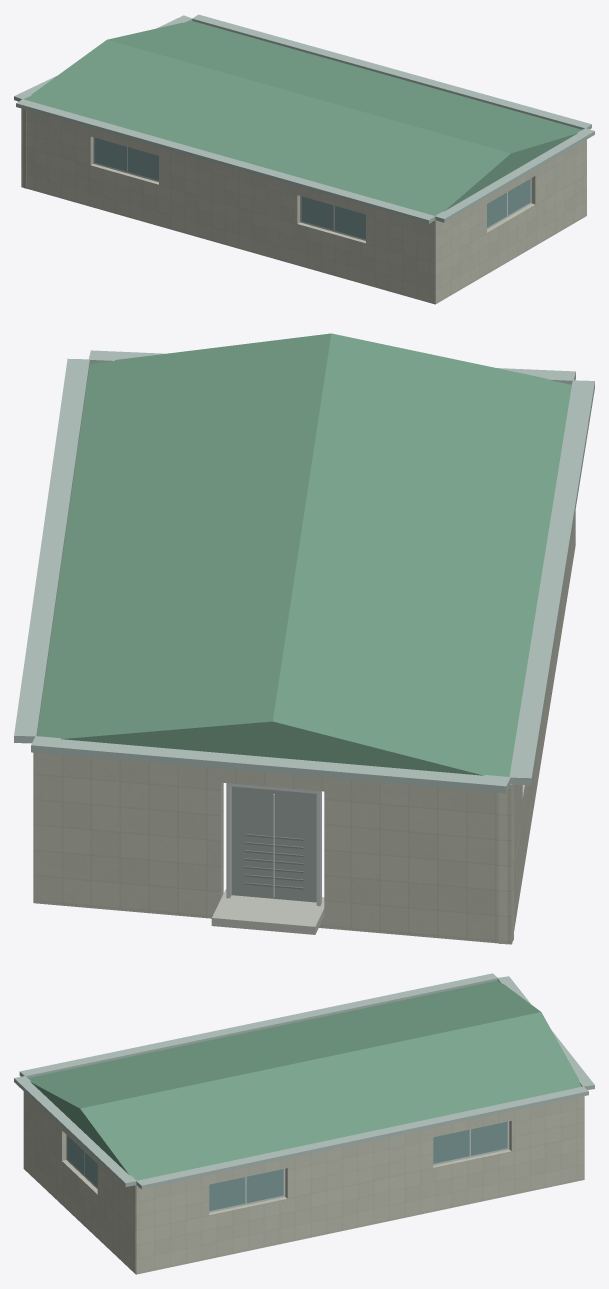
The picture shows the model from 3 angles, top to bottom: view 1: azimuth 30°, elevation 25°; view 2: azimuth 150°, elevation 25°; view 3: azimuth 270°, elevation 25°; orthographic projection. The views are drawn at different scales.
Parts seen in each view (by area): view 1: westgreen__roof, westgreen__wall, westgreen__rib, westgreen__glass, westgreen__frame; view 2: westgreen__roof, westgreen__wall, westgreen__rib, westgreen__door, westgreen__threshold-entry, westgreen__frame, westgreen__vent; view 3: westgreen__roof, westgreen__wall, westgreen__rib, westgreen__glass, westgreen__frame.
Part boxes in pixels (left/top/right/bottom): westgreen__roof: left=26, top=21, right=581, bottom=218; westgreen__wall: left=21, top=108, right=586, bottom=304; westgreen__rib: left=14, top=14, right=594, bottom=223; westgreen__glass: left=94, top=138, right=530, bottom=239; westgreen__frame: left=93, top=137, right=531, bottom=240; westgreen__roof: left=37, top=333, right=571, bottom=782; westgreen__wall: left=33, top=510, right=575, bottom=944; westgreen__rib: left=14, top=350, right=594, bottom=793; westgreen__door: left=231, top=786, right=316, bottom=902; westgreen__threshold-entry: left=211, top=889, right=324, bottom=934; westgreen__frame: left=226, top=783, right=321, bottom=906; westgreen__vent: left=244, top=834, right=303, bottom=889; westgreen__roof: left=28, top=980, right=581, bottom=1183; westgreen__wall: left=23, top=1091, right=584, bottom=1274; westgreen__rib: left=14, top=973, right=594, bottom=1189; westgreen__glass: left=67, top=1121, right=507, bottom=1210; westgreen__frame: left=66, top=1121, right=509, bottom=1212.
Bounding box in the file's own units: 16.07 × 3.99 × 18.58.
Materials: 8 (1 with a texture image).
